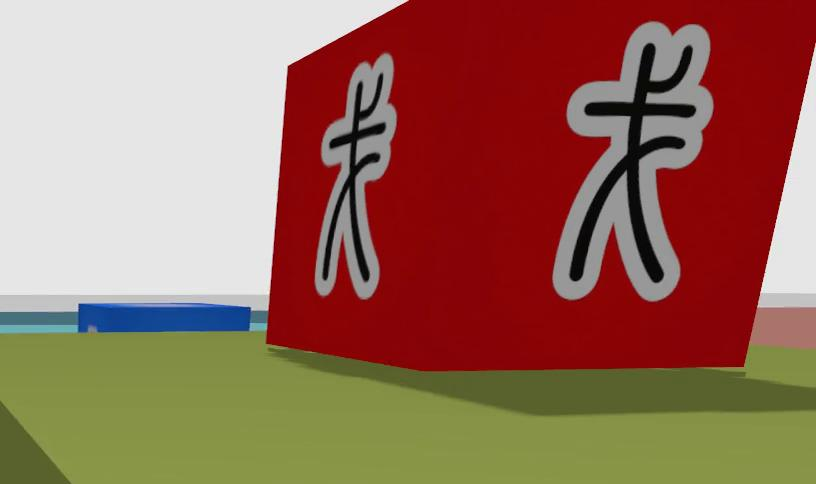KFS_FAKE: (267, 0, 815, 370), (552, 22, 712, 301), (314, 53, 396, 298)
